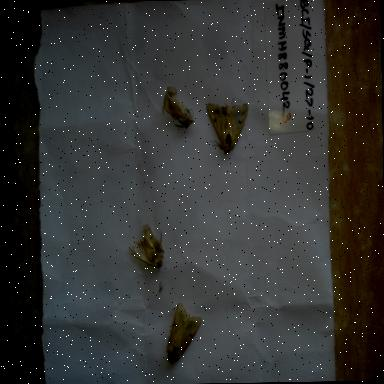abw: (160, 298, 206, 368), (204, 94, 252, 158), (124, 218, 170, 275), (158, 81, 198, 137)
